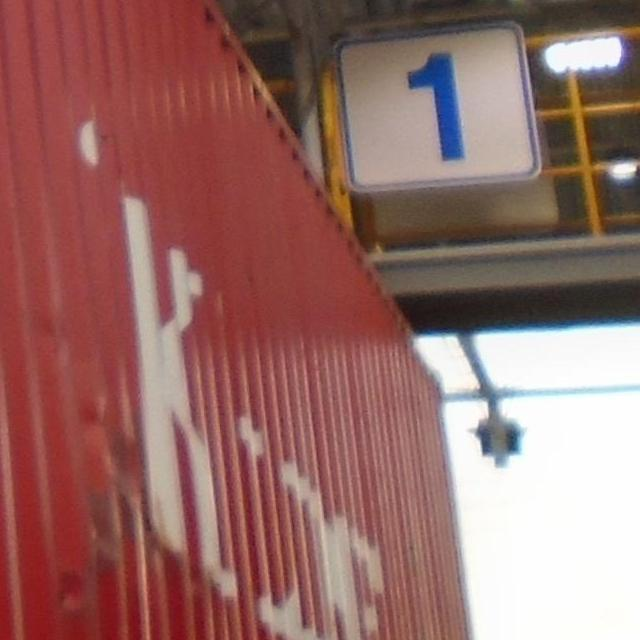dent: (44, 369, 184, 626)
